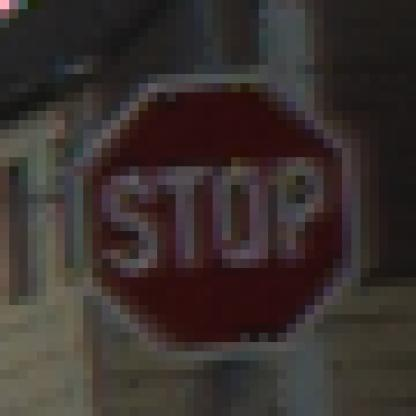Stop: (83, 84, 354, 352)
